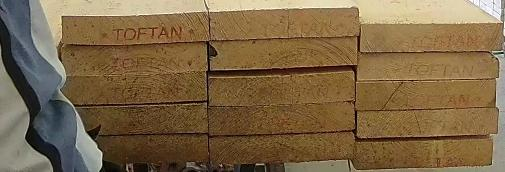Wood-Plank: (210, 70, 356, 106), (209, 6, 359, 40), (63, 71, 207, 105), (210, 37, 358, 70), (60, 43, 207, 76), (354, 136, 494, 170), (60, 103, 207, 135), (62, 11, 208, 43), (210, 132, 355, 164), (209, 103, 354, 135), (357, 79, 497, 110), (59, 135, 208, 164), (360, 22, 502, 52), (358, 52, 500, 80), (358, 109, 499, 137)
